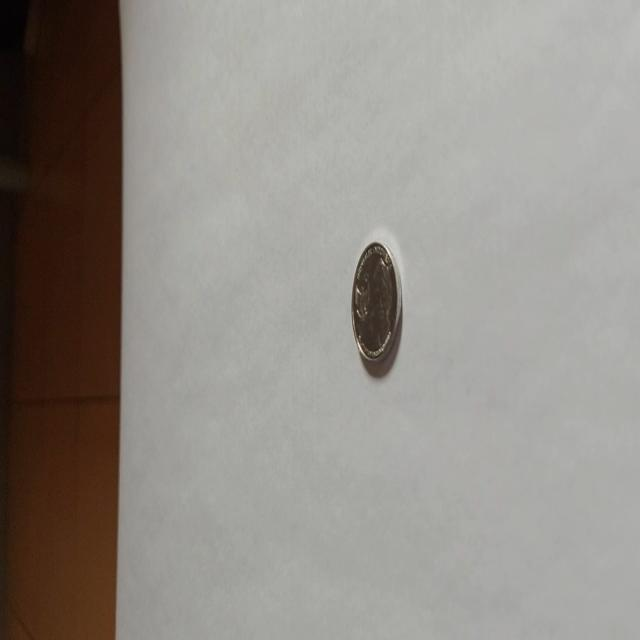dua ratus rupiah: (350, 239, 402, 365)
